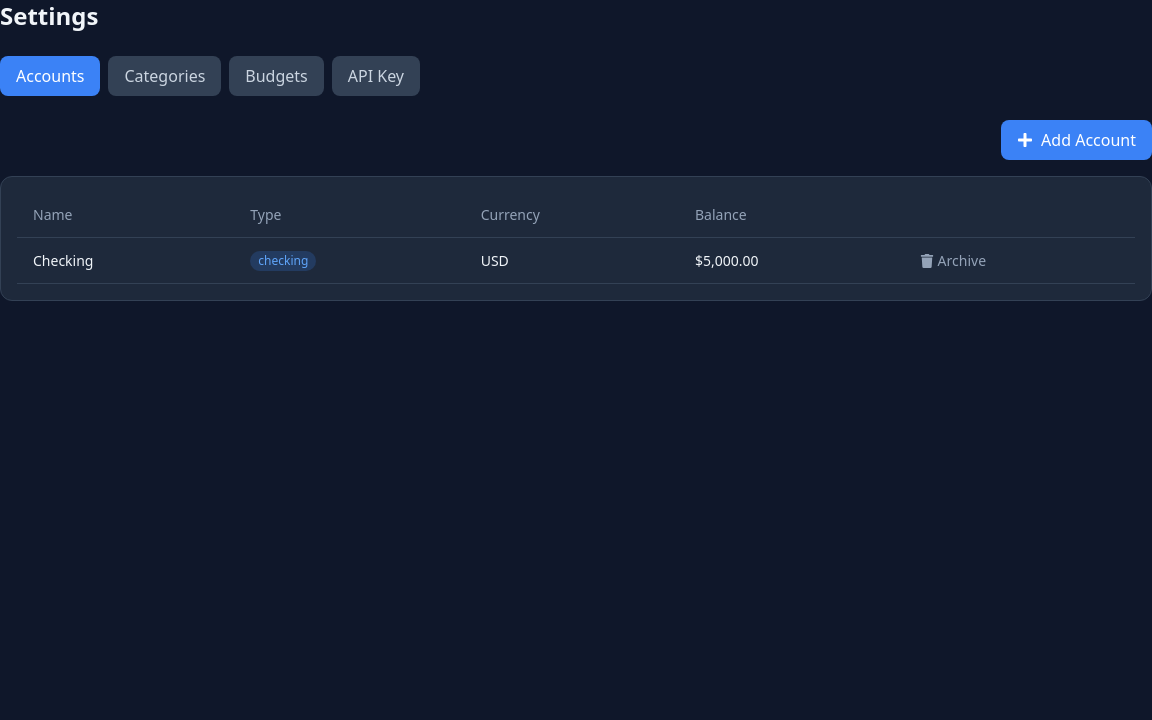
Test: Settings › closes account modal on Cancel
Click the button "Add Account": {"x": 1077, "y": 140} [1001,120,1151,160]
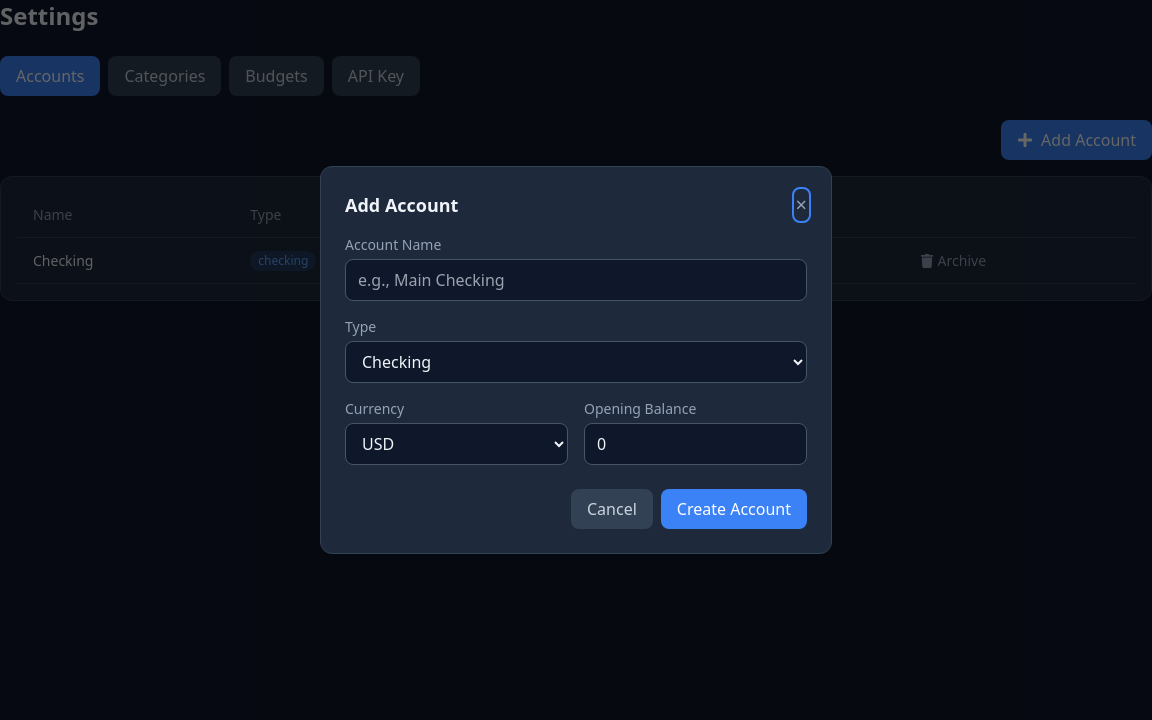
Result: the button "Cancel" is shown
Click the button "Cancel": {"x": 612, "y": 509} [571,489,653,529]
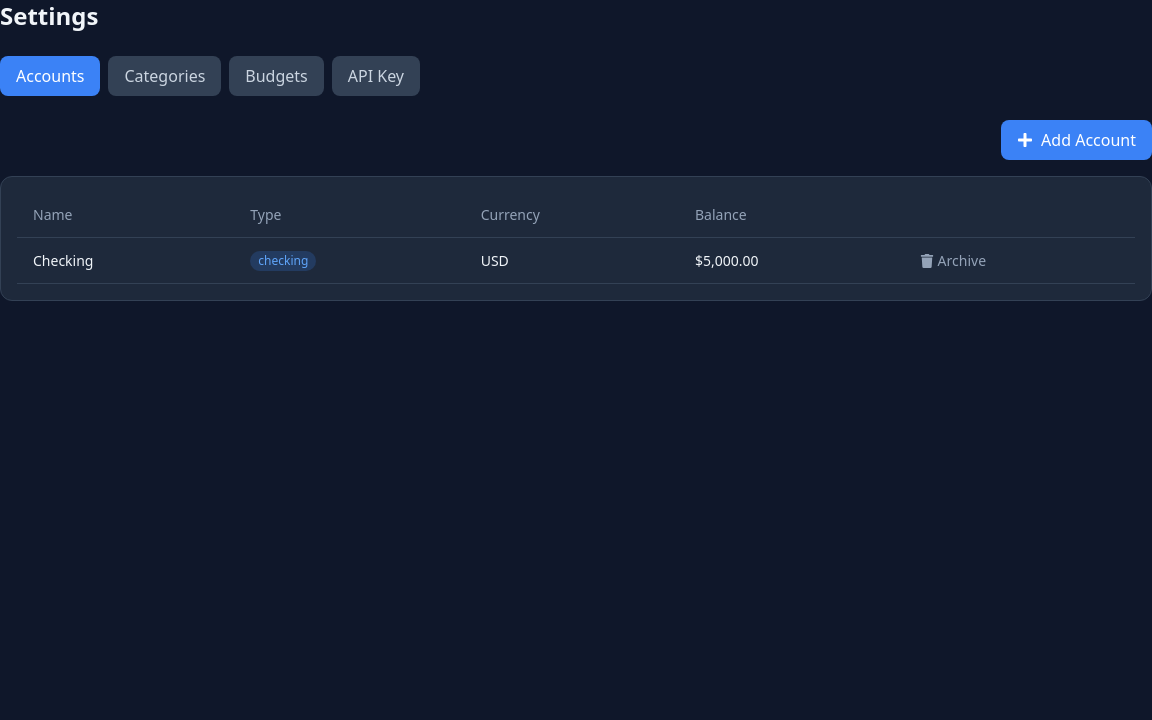
Result: the button "Create Account" is gone
